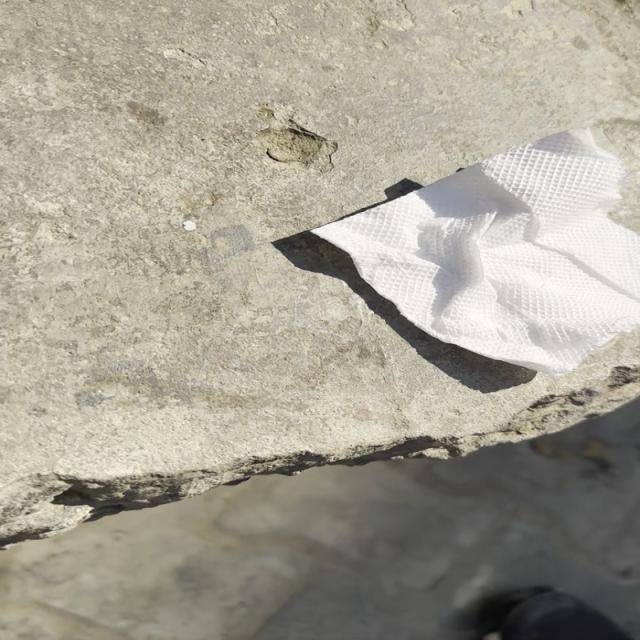tissue: (309, 134, 635, 374)
